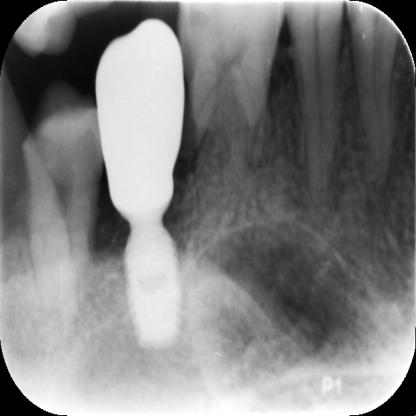Bicon: (120, 210, 185, 354)
